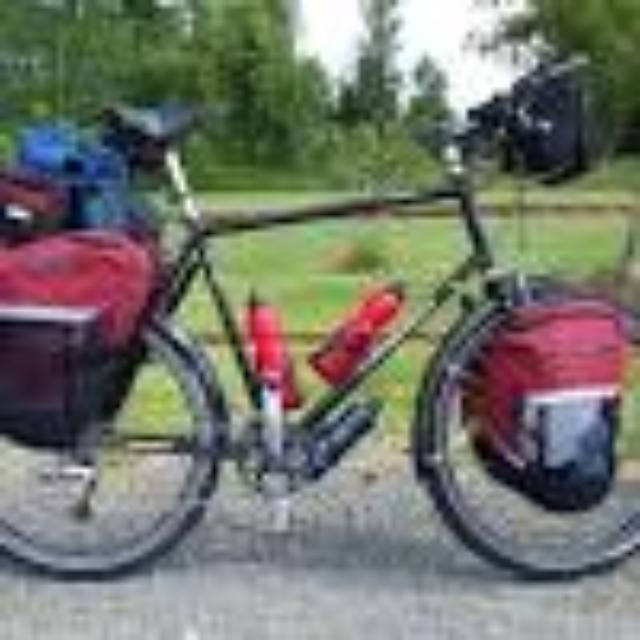obstacle: (1, 82, 640, 596)
